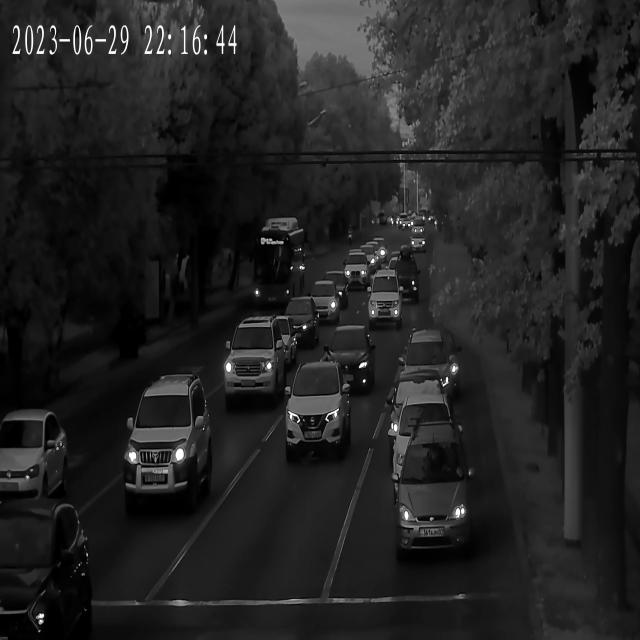Bus: (253, 220, 308, 312)
Car: (0, 500, 90, 640), (122, 376, 210, 517), (394, 427, 474, 560), (0, 408, 69, 508), (285, 364, 353, 462), (222, 318, 295, 404), (392, 395, 464, 470), (396, 332, 455, 400), (323, 328, 378, 393), (384, 374, 448, 427), (272, 298, 320, 348), (365, 268, 404, 326), (305, 280, 344, 322), (374, 268, 419, 302), (341, 252, 373, 284), (320, 271, 352, 300), (348, 247, 380, 273), (385, 240, 413, 269), (362, 242, 386, 265), (411, 236, 426, 253)
